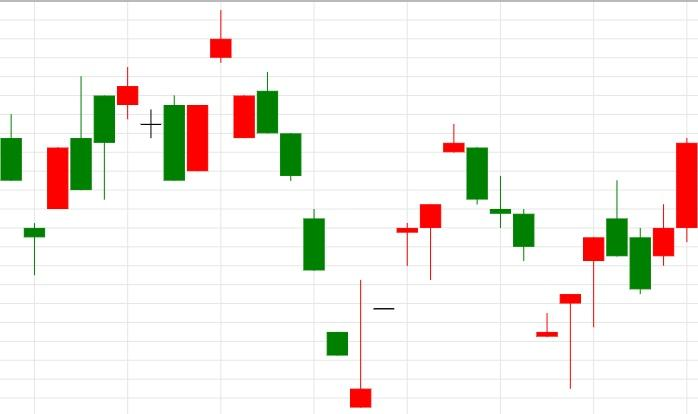hanging_man_fall: (349, 203, 442, 408), (536, 236, 606, 390)
inverse_hammer_rise: (210, 10, 372, 409)
three_white_soldiers_rise: (443, 122, 605, 390)
